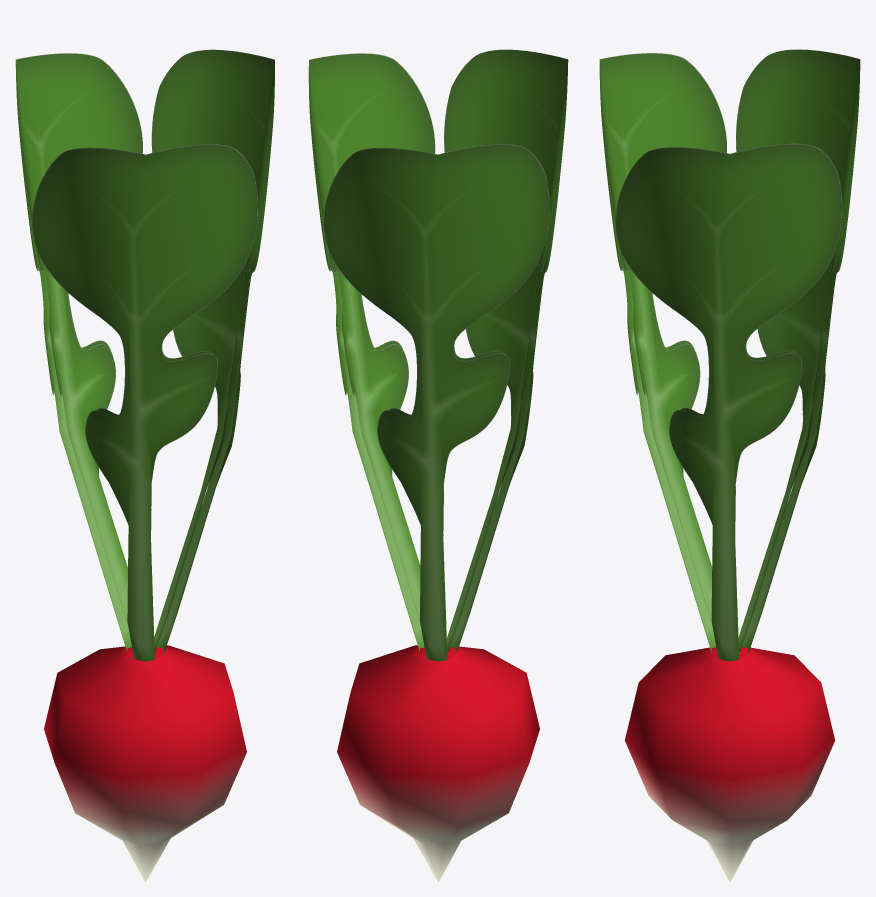
File: Radish.FBX
3 views of the same model, side by side, from view 1: azimuth 30°, elevation 25°; view 2: azimuth 150°, elevation 25°; view 3: azimuth 270°, elevation 25° (orthographic).
Visible parts, largest first — view 1: Radish; view 2: Radish; view 3: Radish.
Boxes of the visible parts, left/top/right/bottom form: Radish: left=15, top=49, right=274, bottom=882; Radish: left=308, top=49, right=568, bottom=882; Radish: left=599, top=49, right=860, bottom=882.
Size of the model in its own units: 5.86 by 17.21 by 5.11.
Materials: 1 (1 with a texture image).
